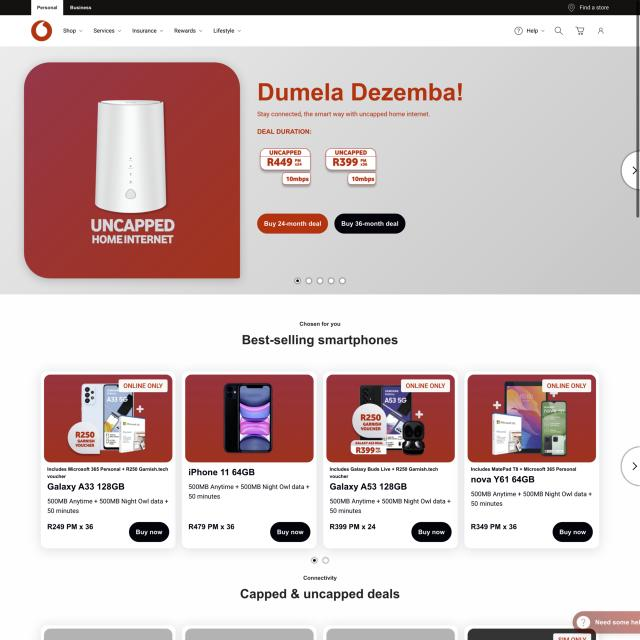CheckBox: (334, 212, 406, 235), (256, 213, 329, 234)
Spinner: (465, 370, 600, 550), (41, 372, 176, 550), (323, 370, 458, 548), (182, 370, 316, 549)
Switch: (0, 46, 640, 293)
alert: (212, 26, 242, 34), (93, 27, 122, 35), (132, 27, 164, 34), (62, 27, 84, 35), (174, 28, 203, 34), (526, 26, 546, 34)
bag: (0, 0, 636, 47)
breadcrumbs: (235, 586, 402, 604), (240, 332, 402, 349)
carousel: (574, 25, 584, 36), (554, 26, 564, 36), (513, 27, 523, 36), (568, 3, 576, 13), (597, 26, 604, 36)
data feed: (262, 219, 323, 228), (341, 220, 400, 228)
date picker: (29, 19, 54, 43)
decoration: (61, 26, 244, 35)
dropdown: (294, 275, 346, 287), (310, 555, 331, 565)
icon: (31, 0, 103, 16)
image: (257, 81, 468, 102)
